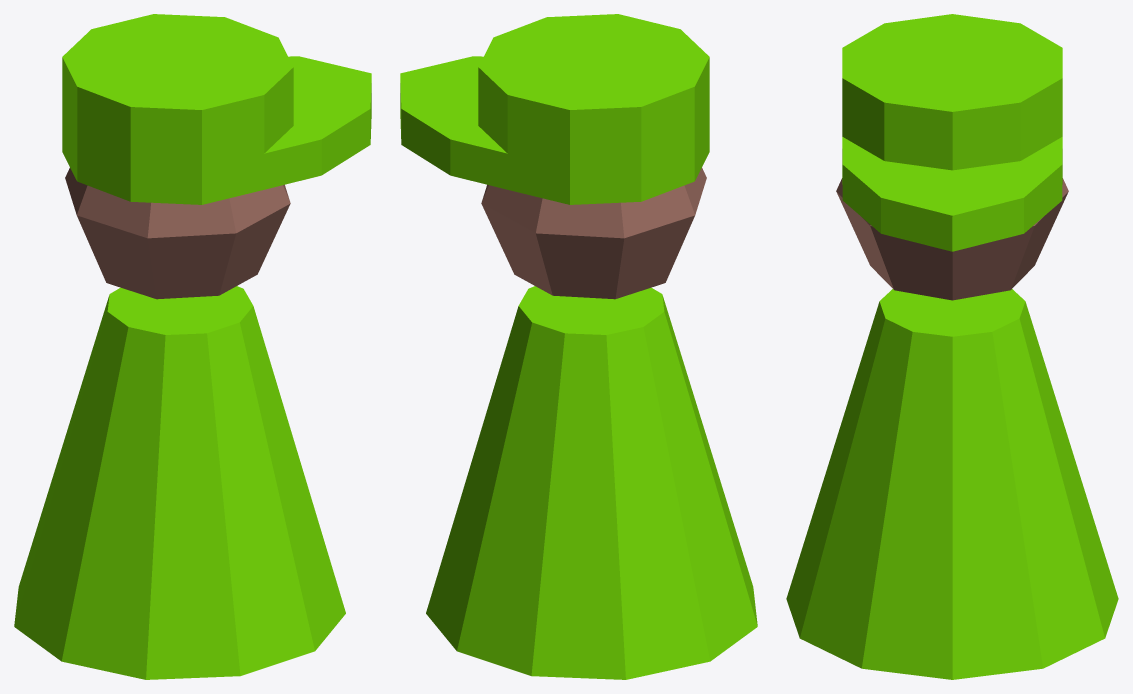
Rendered from Unarmed.fbx.
3 renders of one model, left to right at view 1: azimuth 30°, elevation 25°; view 2: azimuth 150°, elevation 25°; view 3: azimuth 270°, elevation 25°, orthographic.
Parts seen in each view (by area): view 1: Body, Hat, Head; view 2: Body, Hat, Head; view 3: Body, Hat, Head.
Boxes of the visible parts, x1=… form: Body: x1=14, y1=286, x2=345, y2=679; Hat: x1=62, y1=14, x2=371, y2=204; Head: x1=65, y1=168, x2=290, y2=299; Body: x1=426, y1=286, x2=757, y2=679; Hat: x1=400, y1=14, x2=709, y2=204; Head: x1=481, y1=168, x2=706, y2=299; Body: x1=786, y1=289, x2=1118, y2=679; Hat: x1=842, y1=14, x2=1062, y2=251; Head: x1=836, y1=178, x2=1068, y2=300.
Bounding box in the file's own units: 0.8962 × 1.41 × 0.7751.
